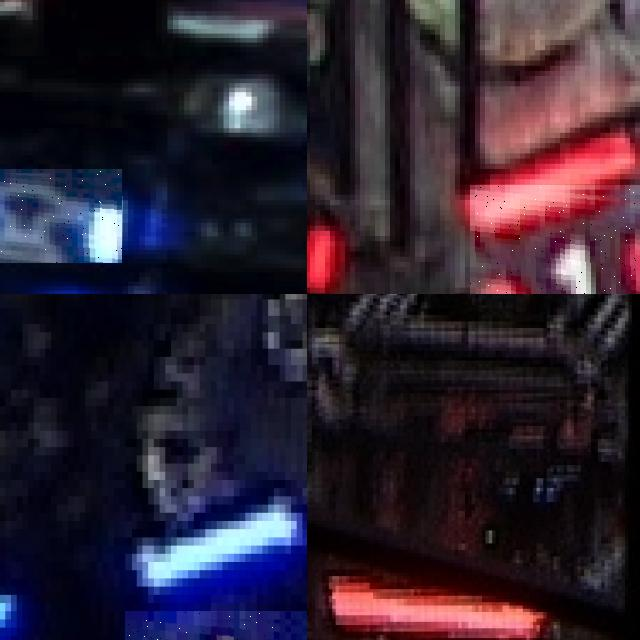Bs: (0, 168, 122, 263)
R1: (470, 184, 640, 294)
